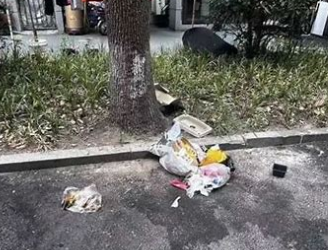garbage: (150, 119, 233, 196), (59, 185, 108, 214), (151, 79, 184, 118), (268, 158, 295, 184), (157, 194, 187, 212)
